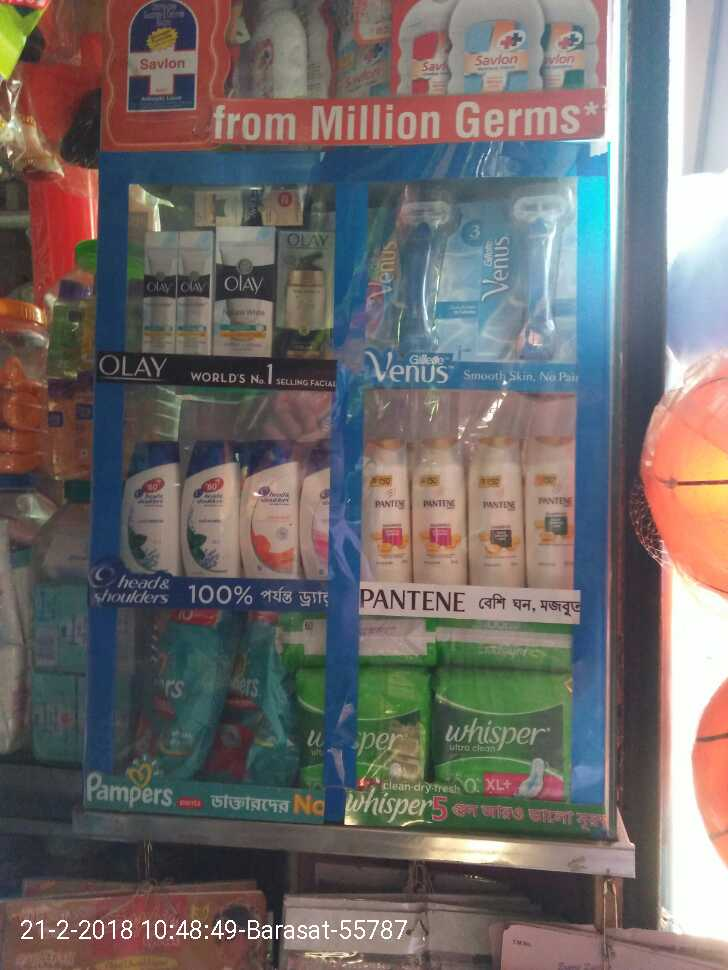venus: (449, 191, 562, 358), (373, 191, 449, 358)
